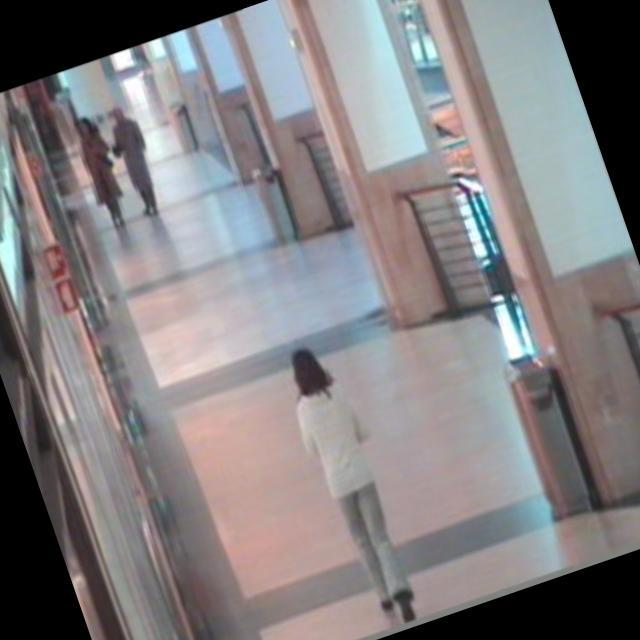person: (237, 314, 450, 640), (52, 100, 142, 252), (90, 83, 176, 231)
